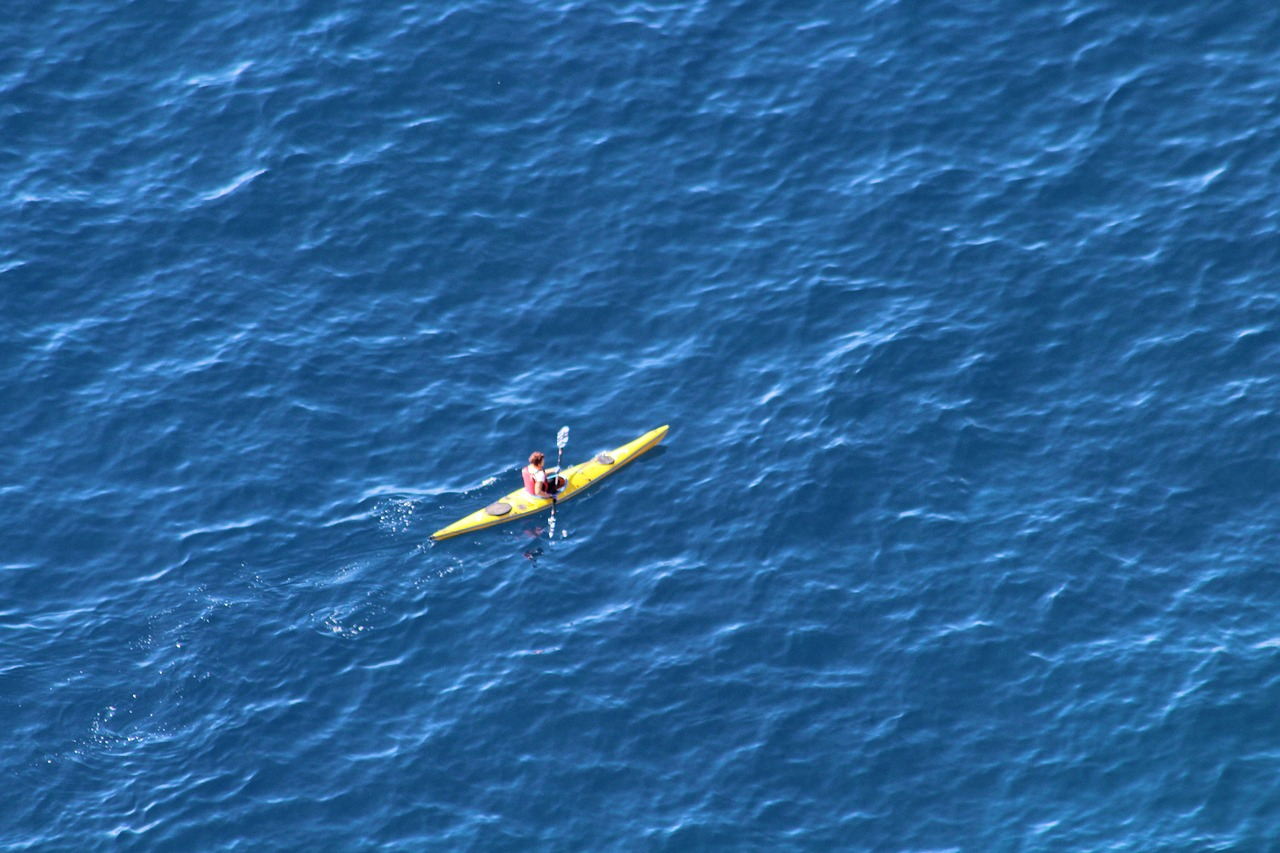kayak: (429, 420, 673, 549)
